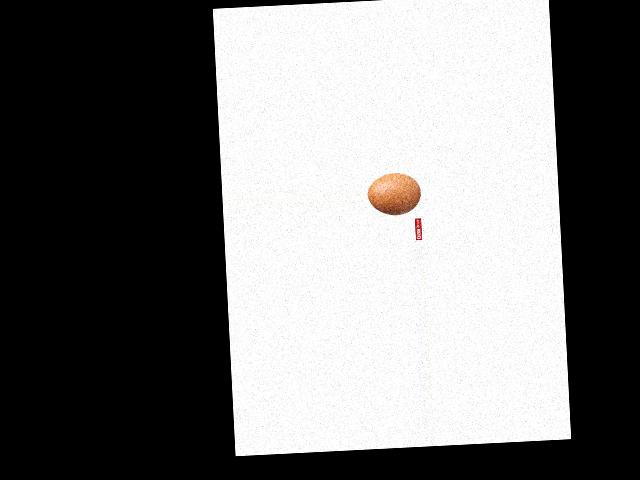egg: (367, 171, 421, 215)
